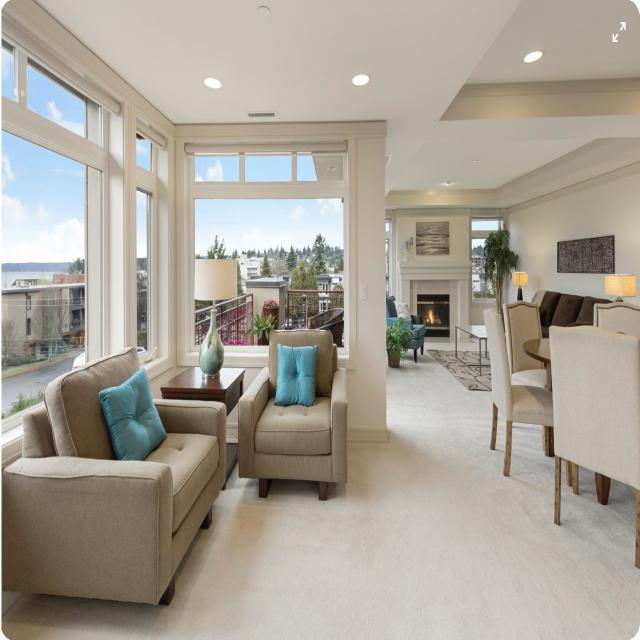chair: (481, 301, 553, 483)
lamp: (192, 254, 238, 378), (602, 268, 637, 302)
pillow: (103, 366, 169, 462), (277, 342, 318, 401)
sofa: (1, 338, 232, 608), (233, 323, 354, 510)
